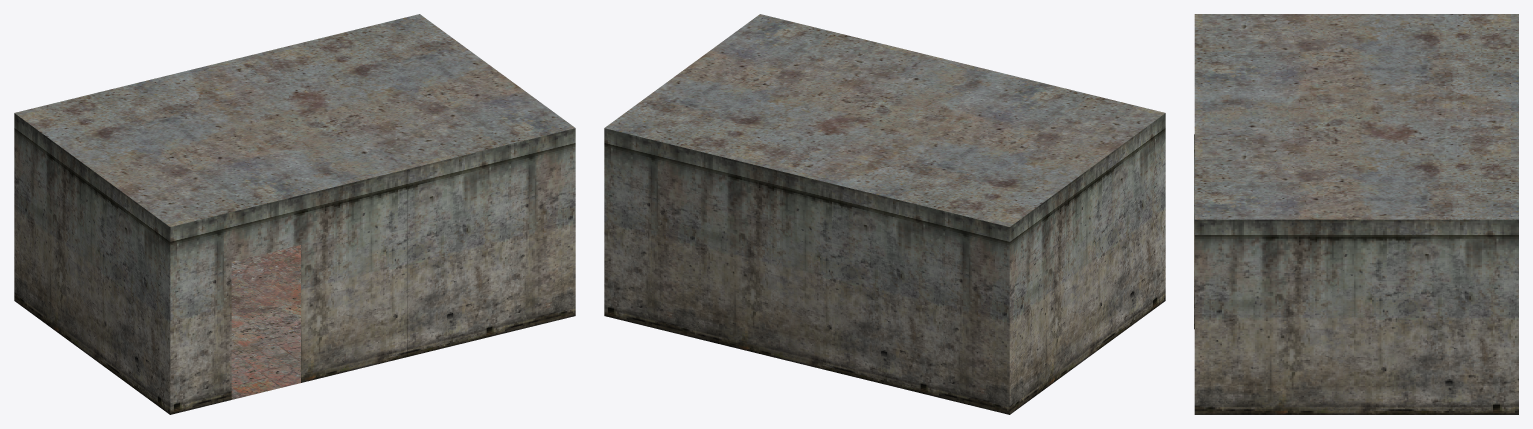
Rendered from _Room_5.FBX.
The picture shows the model from 3 angles, left to right: view 1: azimuth 30°, elevation 25°; view 2: azimuth 150°, elevation 25°; view 3: azimuth 270°, elevation 25°; orthographic projection. The views are drawn at different scales.
Visible parts, largest first — view 1: _Room_5; view 2: _Room_5; view 3: _Room_5.
Boxes of the visible parts, box(x1,y1,x2,y2) form: _Room_5: box(14, 14, 575, 414); _Room_5: box(604, 14, 1165, 414); _Room_5: box(1194, 14, 1518, 414).
Size of the model in its own units: 552 by 244 by 368.
4 materials, 4 textured.
